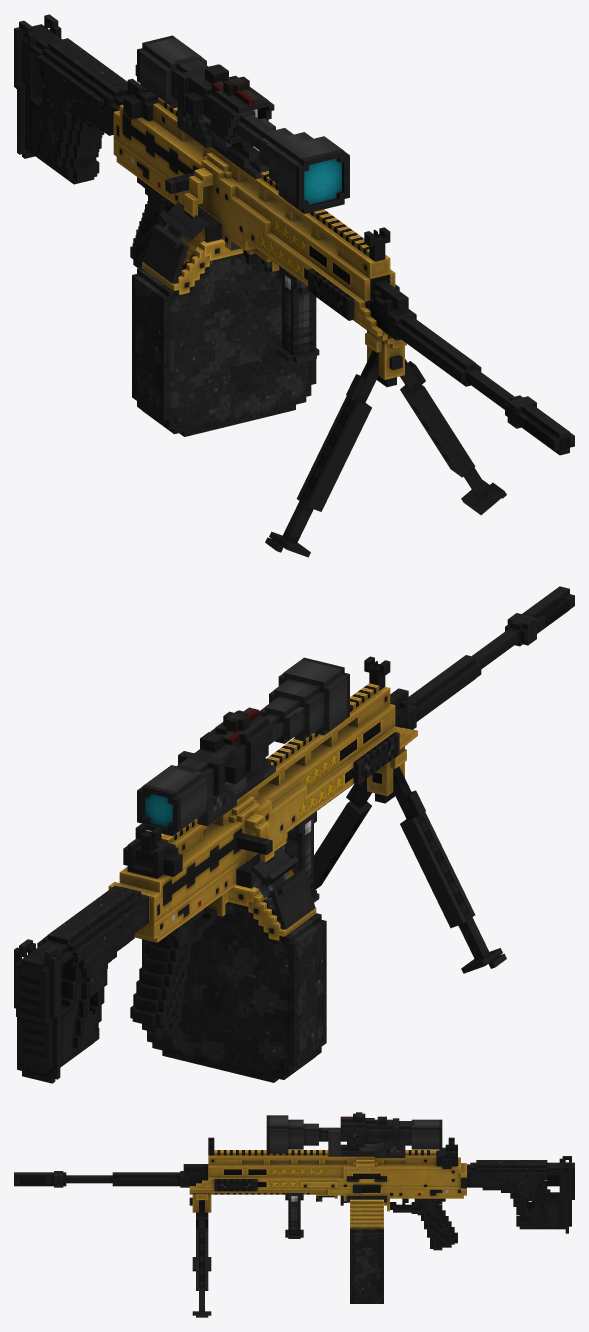
The model's file is RD_RPL20_VETERAN.glb.
The picture shows the model from 3 angles, top to bottom: view 1: azimuth 30°, elevation 25°; view 2: azimuth 150°, elevation 25°; view 3: azimuth 270°, elevation 25°; orthographic projection. The views are drawn at different scales.
Visible parts, largest first — view 1: RPL20, RPL20_CLIP, RPL20_DIPOD, SCOPE_SCHMIDT_BENDER, SCOPE_ACOG, GRIP1, RPL20_CLIP_COVER, SCOPE_EOTECH, RPL20_BODY_COVER, RPL20_SCOPE; view 2: RPL20, RPL20_CLIP, SCOPE_SCHMIDT_BENDER, RPL20_DIPOD, SCOPE_ACOG, RPL20_CLIP_COVER, GRIP1, RPL20_SCOPE, SCOPE_EOTECH, RPL20_BODY_COVER; view 3: RPL20, SCOPE_SCHMIDT_BENDER, RPL20_CLIP, SCOPE_ACOG, RPL20_DIPOD, GRIP1, SCOPE_EOTECH.
Boxes of the visible parts, x1,y1,x2,y2 form: RPL20: (14, 14, 574, 455); RPL20_CLIP: (132, 239, 316, 436); RPL20_DIPOD: (265, 330, 506, 557); SCOPE_SCHMIDT_BENDER: (137, 35, 349, 213); SCOPE_ACOG: (171, 56, 274, 170); GRIP1: (277, 266, 319, 363); RPL20_CLIP_COVER: (143, 224, 188, 283); SCOPE_EOTECH: (177, 100, 231, 152); RPL20_BODY_COVER: (159, 202, 207, 240); RPL20_SCOPE: (135, 64, 390, 261); RPL20: (14, 586, 574, 1083); RPL20_CLIP: (142, 885, 326, 1082); SCOPE_SCHMIDT_BENDER: (137, 657, 349, 836); RPL20_DIPOD: (314, 746, 506, 973); SCOPE_ACOG: (174, 707, 274, 799); RPL20_CLIP_COVER: (269, 870, 315, 929); GRIP1: (284, 811, 319, 902); RPL20_SCOPE: (135, 656, 390, 852); SCOPE_EOTECH: (197, 777, 246, 826); RPL20_BODY_COVER: (251, 848, 299, 886); RPL20: (14, 1144, 574, 1250); SCOPE_SCHMIDT_BENDER: (266, 1112, 442, 1156); RPL20_CLIP: (350, 1199, 383, 1303); SCOPE_ACOG: (340, 1116, 414, 1156); RPL20_DIPOD: (189, 1193, 211, 1317); GRIP1: (285, 1193, 303, 1238); SCOPE_EOTECH: (359, 1141, 405, 1157).
Size of the model in its own units: 0.4468 by 0.629 by 1.79.
Materials: 7 (7 with a texture image).
